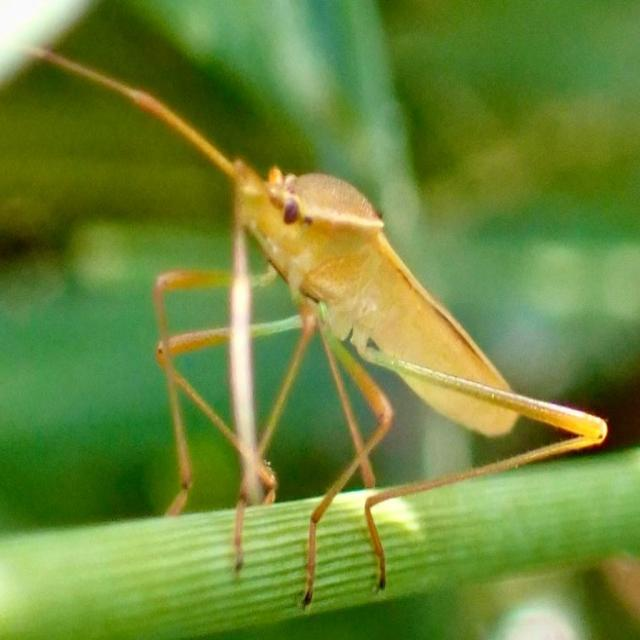walang sangit pada tanaman padi: (19, 39, 610, 611)
